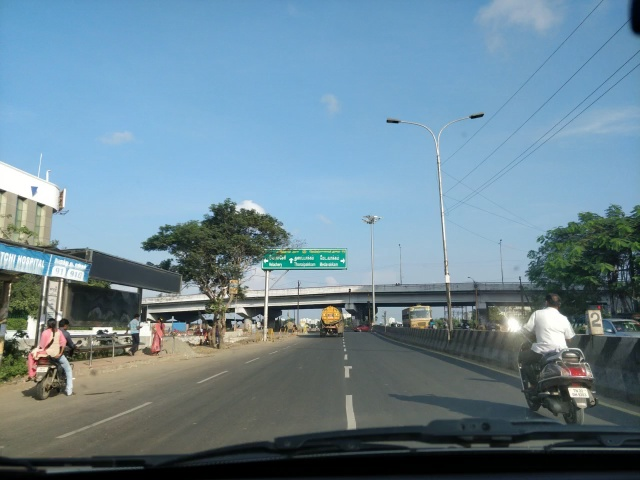bus: (401, 304, 437, 332)
car: (581, 315, 640, 358), (353, 323, 377, 333)
motorbike: (503, 294, 602, 429), (29, 314, 81, 401)
person: (127, 311, 143, 358), (151, 315, 167, 355)
truck: (317, 304, 346, 339)
